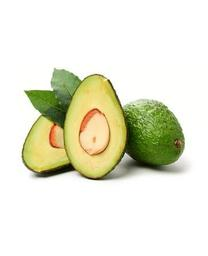avocado: (63, 73, 129, 181), (22, 98, 112, 176), (116, 99, 186, 167)
